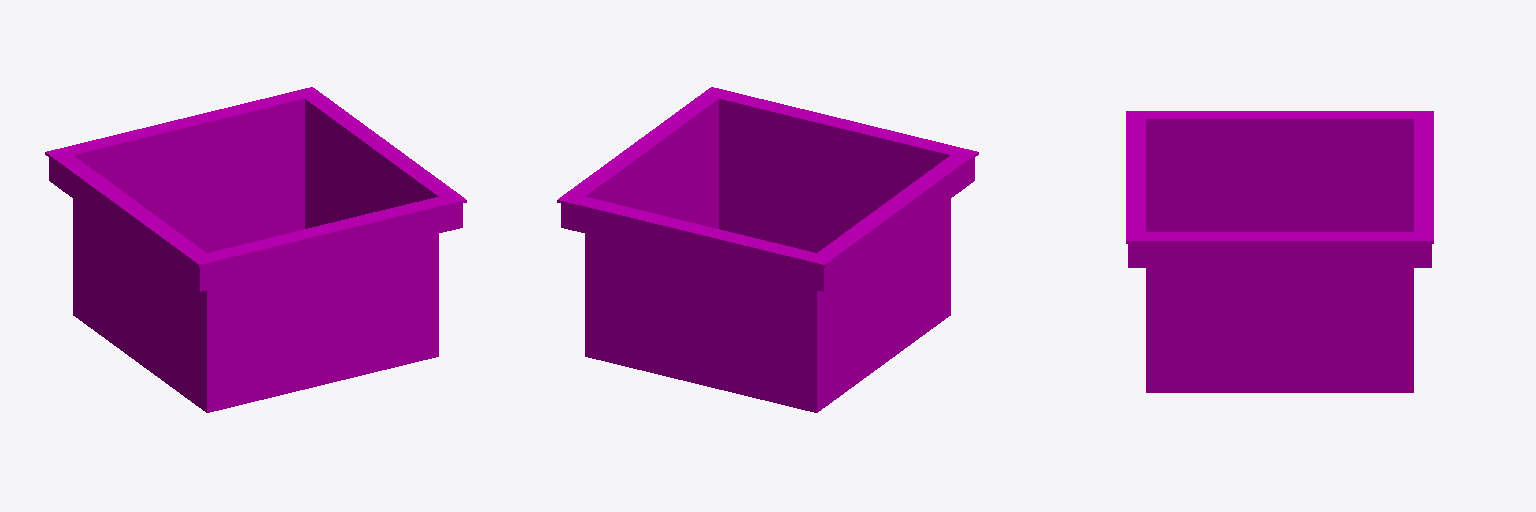
File: sandbox.obj
3 views of the same model, side by side, from view 1: azimuth 30°, elevation 25°; view 2: azimuth 150°, elevation 25°; view 3: azimuth 270°, elevation 25° (orthographic).
Visible parts, largest first — view 1: LowPolySandbox_Cube.019, LowPolySandbox_extension_Cube.004; view 2: LowPolySandbox_Cube.019, LowPolySandbox_extension_Cube.004; view 3: LowPolySandbox_Cube.019, LowPolySandbox_extension_Cube.004.
Part boxes in pixels (bbox=[...]): LowPolySandbox_Cube.019: bbox=[45, 87, 466, 332]; LowPolySandbox_extension_Cube.004: bbox=[73, 179, 438, 412]; LowPolySandbox_Cube.019: bbox=[557, 87, 978, 332]; LowPolySandbox_extension_Cube.004: bbox=[585, 179, 950, 412]; LowPolySandbox_Cube.019: bbox=[1126, 111, 1433, 312]; LowPolySandbox_extension_Cube.004: bbox=[1146, 199, 1413, 392].
Bounding box in the file's own units: 28.86 × 16.52 × 28.86.